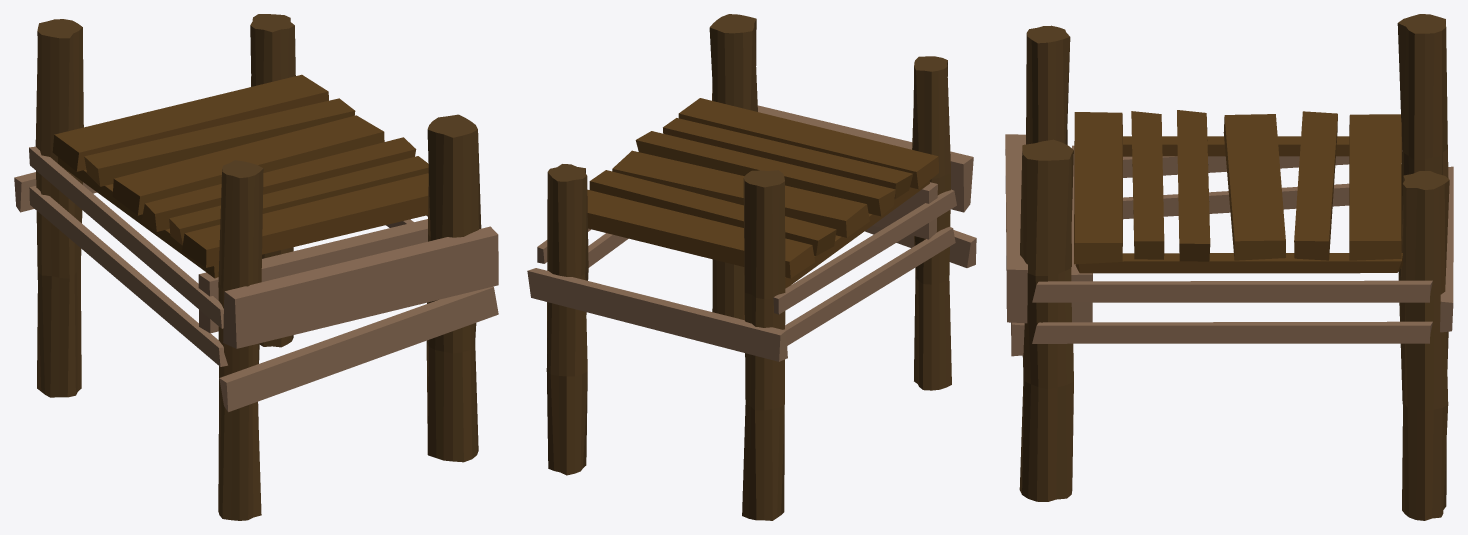
File: dock_one.fbx
3 renders of one model, left to right at view 1: azimuth 30°, elevation 25°; view 2: azimuth 150°, elevation 25°; view 3: azimuth 270°, elevation 25°, orthographic. The views are drawn at different scales.
Visible parts, largest first — view 1: dock; view 2: dock; view 3: dock.
Boxes of the visible parts, left/top/right/bottom form: dock: left=14, top=14, right=498, bottom=520; dock: left=527, top=14, right=976, bottom=520; dock: left=1005, top=14, right=1453, bottom=520.
Size of the model in its own units: 336 by 423 by 454.
